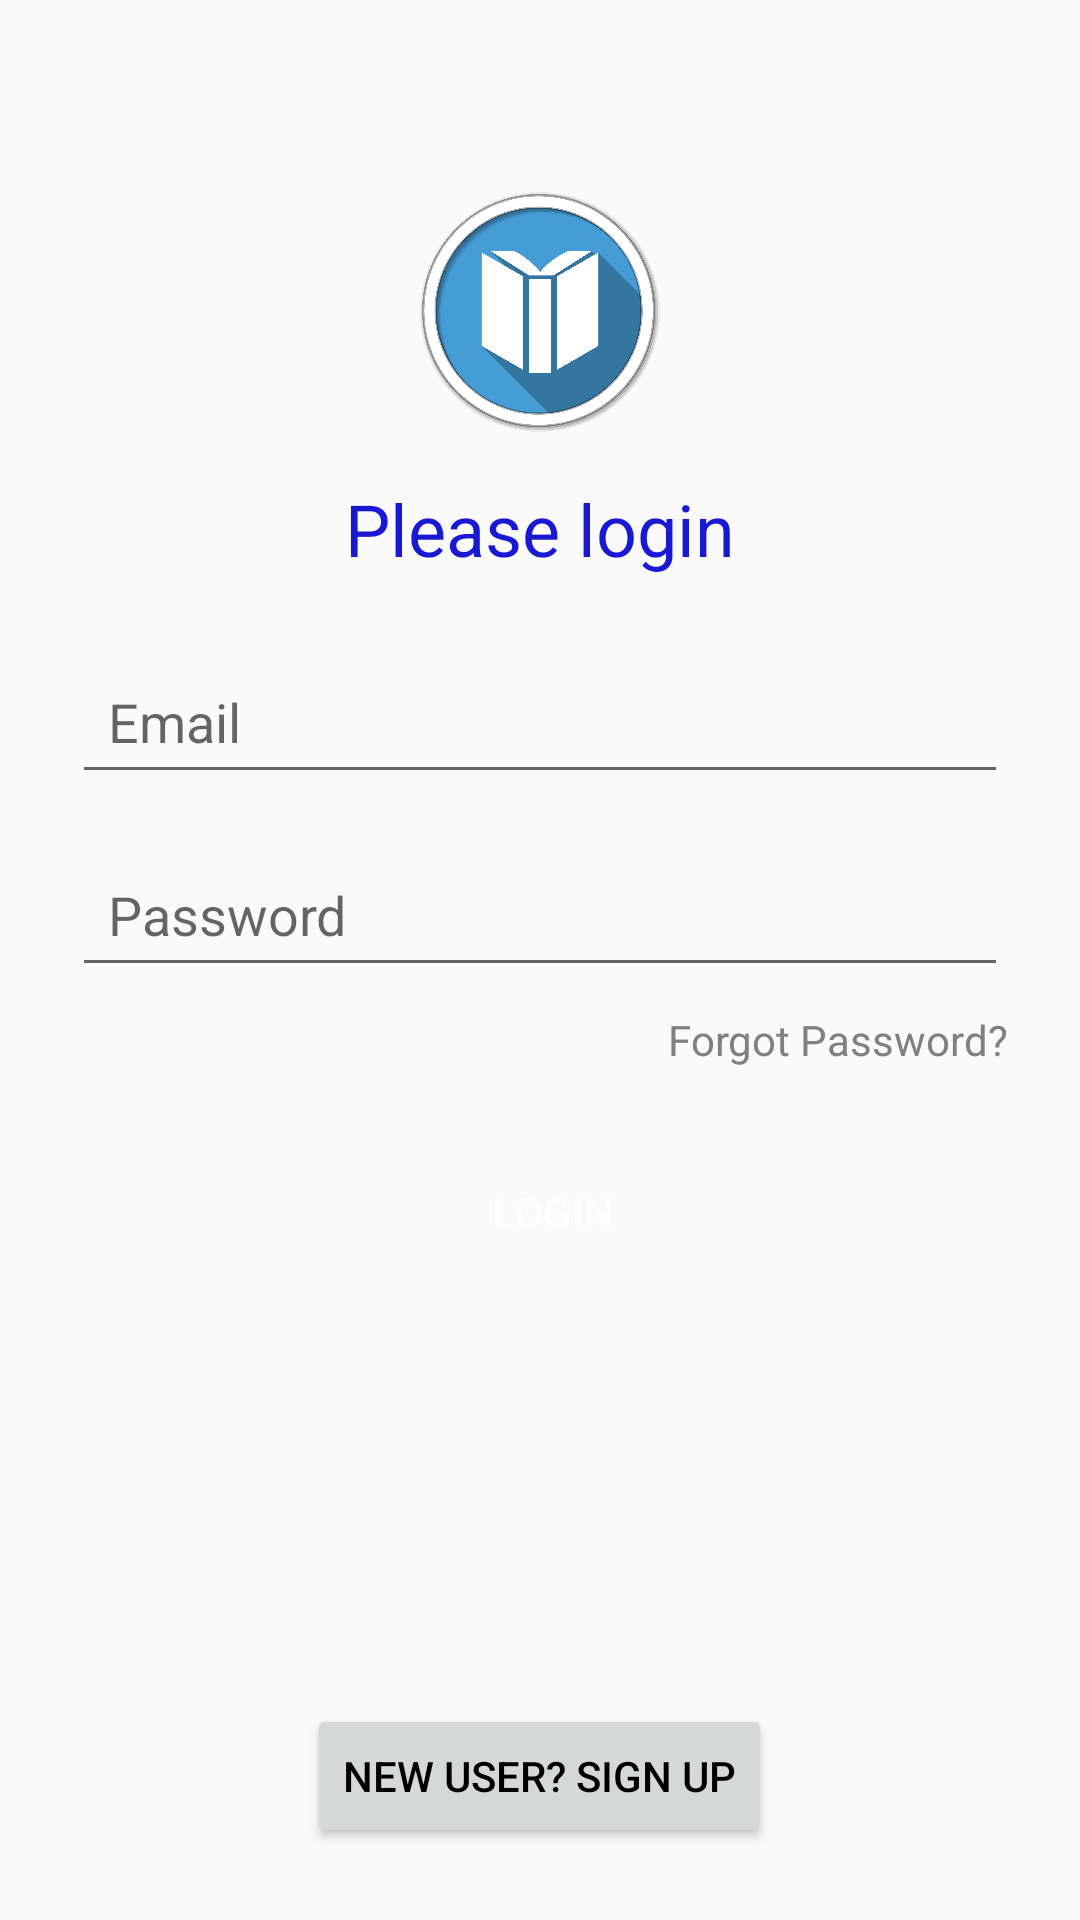

Icons on this 1080w x 1920h Android screen, each with its box as (x1, y1, x2, y2):
book: (422, 194, 658, 430)
